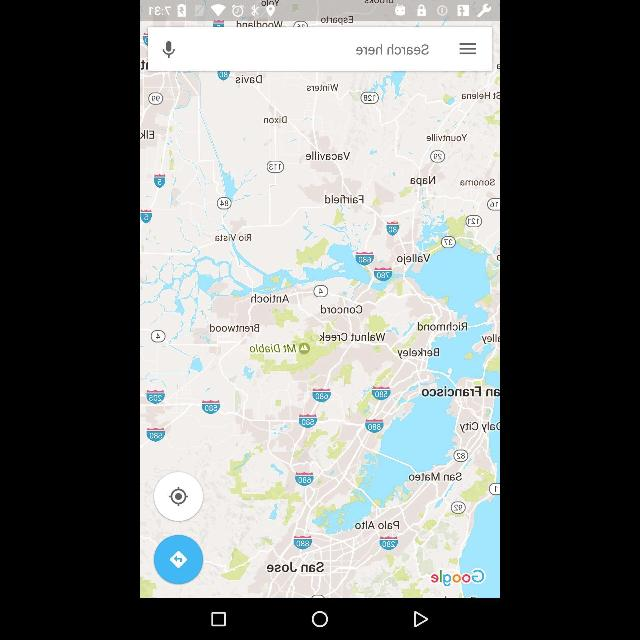button: (154, 536, 202, 584)
icon: (168, 486, 188, 508), (311, 610, 331, 630), (412, 610, 430, 628), (210, 610, 228, 628), (162, 40, 176, 60), (459, 42, 477, 56)
input: (149, 27, 493, 71)
map: (140, 22, 500, 600)
panel: (140, 600, 500, 638)
text: (355, 43, 431, 57)
uppertaskbar: (140, 1, 500, 19)
